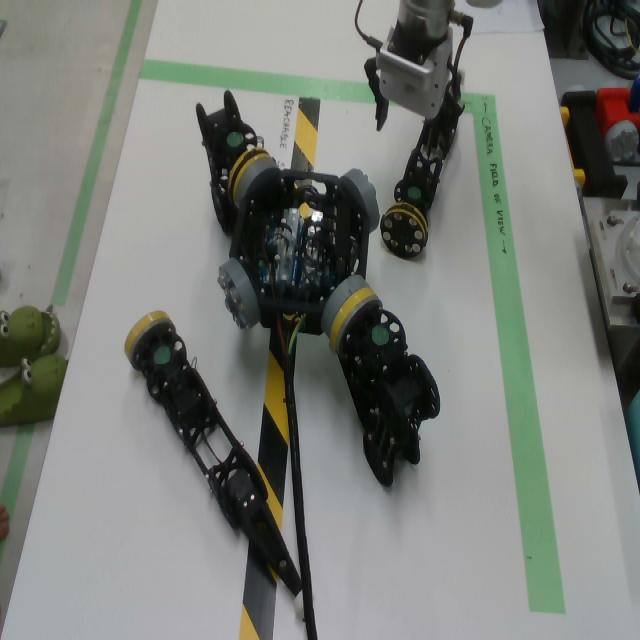body: (230, 169, 370, 337)
body_connector: (217, 259, 260, 331), (321, 275, 368, 336), (341, 169, 380, 232), (235, 157, 278, 205)
gripper: (365, 28, 465, 160)
leg: (125, 311, 304, 615), (330, 287, 441, 488), (195, 91, 271, 237), (380, 119, 459, 257), (452, 68, 466, 103)
leg_connector: (329, 287, 383, 353), (124, 311, 175, 371), (380, 203, 429, 259), (228, 148, 270, 204)
leg_marker: (372, 325, 389, 345), (154, 347, 171, 364), (227, 132, 243, 145), (408, 187, 421, 199)
